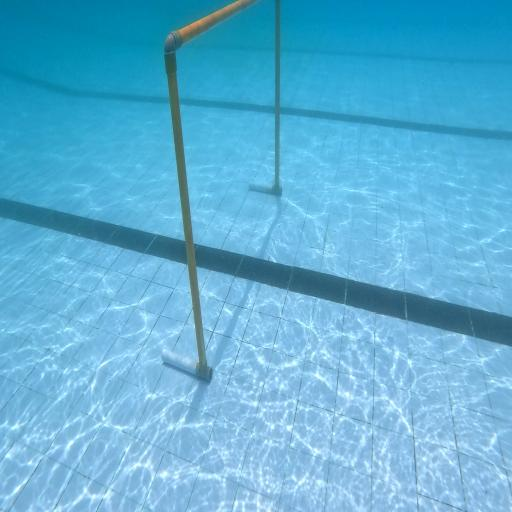gate: (162, 1, 283, 382)
